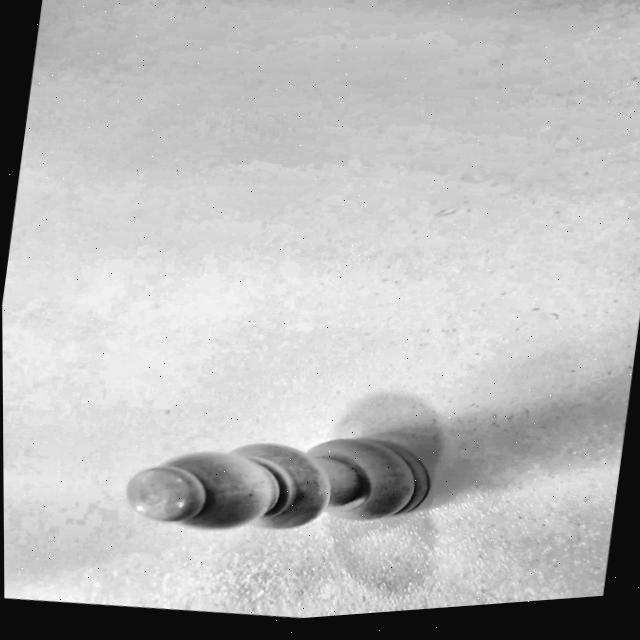white-bishop: (79, 358, 474, 596)
